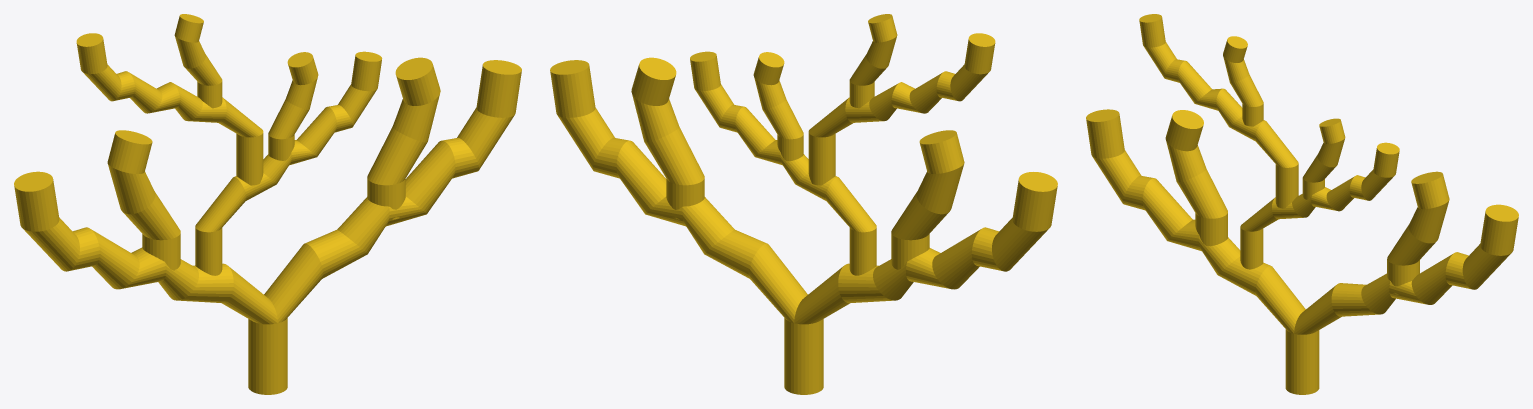
3 renders of one model, left to right at view 1: azimuth 30°, elevation 25°; view 2: azimuth 150°, elevation 25°; view 3: azimuth 330°, elevation 25°, orthographic. The views are drawn at different scales.
Visible parts, largest first — view 1: Cylinder.005; view 2: Cylinder.005; view 3: Cylinder.005.
Part boxes in pixels (bbox=[...]): Cylinder.005: bbox=[14, 14, 521, 394]; Cylinder.005: bbox=[550, 14, 1057, 394]; Cylinder.005: bbox=[1086, 14, 1518, 394].
Bounding box in the file's own units: 1.36 × 1.01 × 0.0927.
